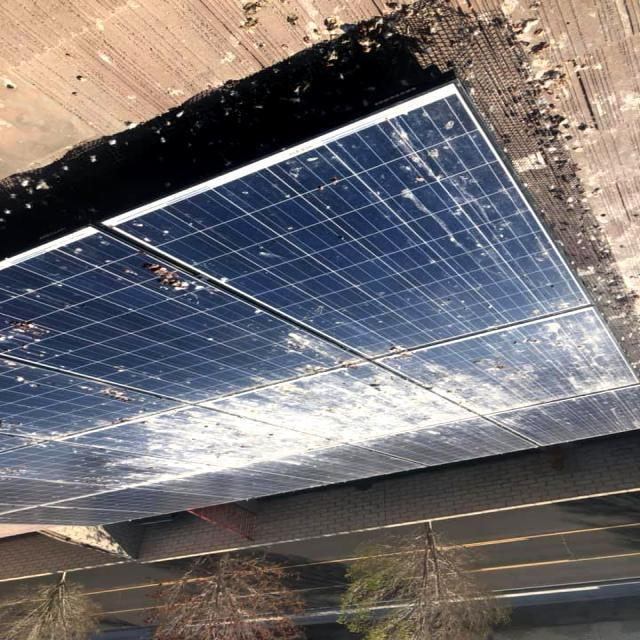soiled: (3, 75, 638, 513)
